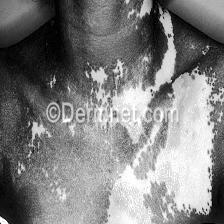Benign Marking or Mole: (159, 76, 224, 208), (55, 173, 155, 224)
